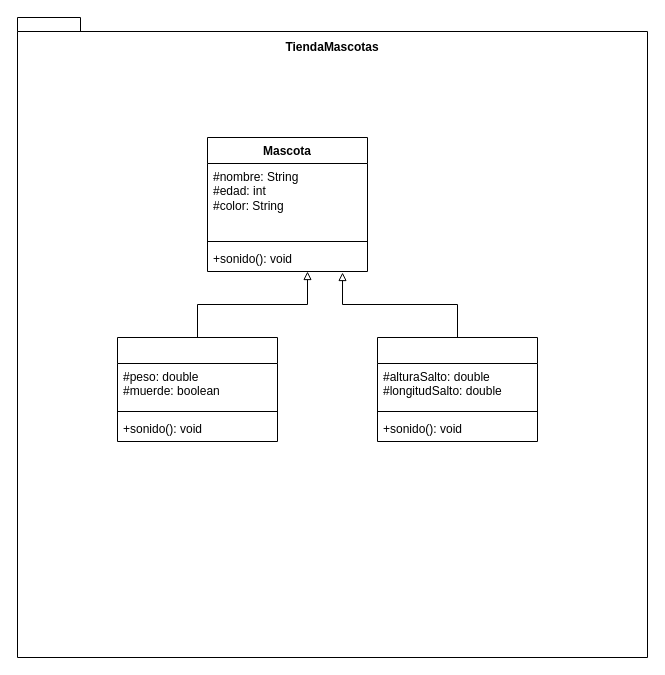
This 665x675 diagram has some shape labels left out. Each missing label, with the box of its shape:
Gato: (376, 336, 538, 442)
Perro: (116, 336, 278, 442)
